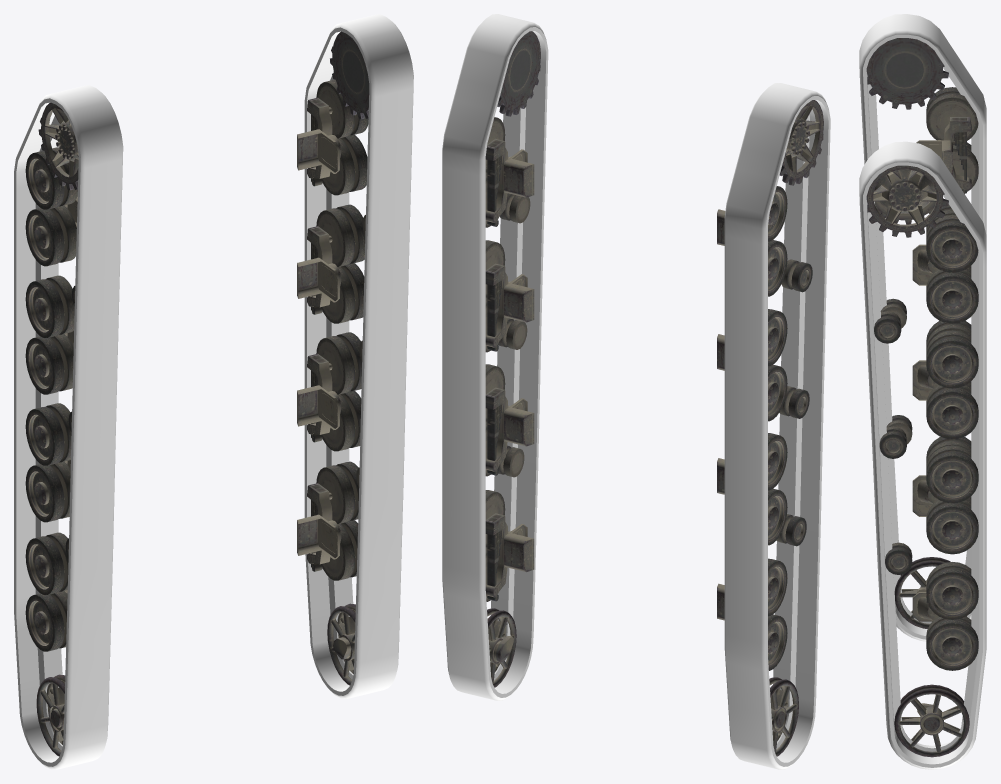
The model's file is Chassis.glb.
3 views of the same model, side by side, from view 1: azimuth 30°, elevation 25°; view 2: azimuth 150°, elevation 25°; view 3: azimuth 270°, elevation 25° (orthographic). The views are drawn at different scales.
Parts seen in each view (by area): view 1: set_1_group_0, set_0_group_0, set_3_group_0, set_2_group_0; view 2: set_1_group_0, set_0_group_0, set_3_group_0, set_2_group_0; view 3: set_3_group_0, set_0_group_0, set_2_group_0, set_1_group_0.
Boxes of the visible parts, x1,y1,x2,y2 form: set_1_group_0: (14,85,123,769); set_0_group_0: (304,14,413,698); set_3_group_0: (297,31,369,685); set_2_group_0: (25,102,78,756); set_1_group_0: (724,83,830,769); set_0_group_0: (442,14,548,700); set_3_group_0: (485,31,540,687); set_2_group_0: (717,100,823,756); set_3_group_0: (866,165,978,757); set_0_group_0: (859,141,986,769); set_2_group_0: (866,38,978,628); set_1_group_0: (859,14,986,641).
Bounding box in the file's own units: 3.12 × 6.08 × 1.14.
4 materials, 2 textured.
